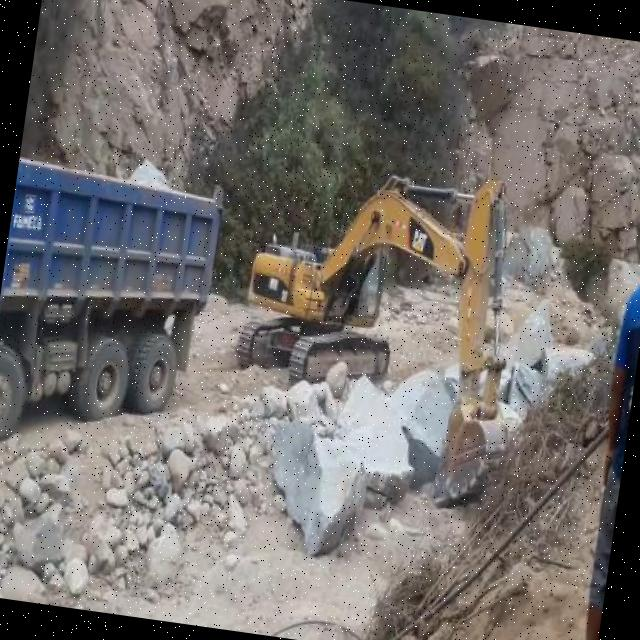Dump Truck: (0, 150, 230, 480)
Excavator: (217, 144, 554, 518)
